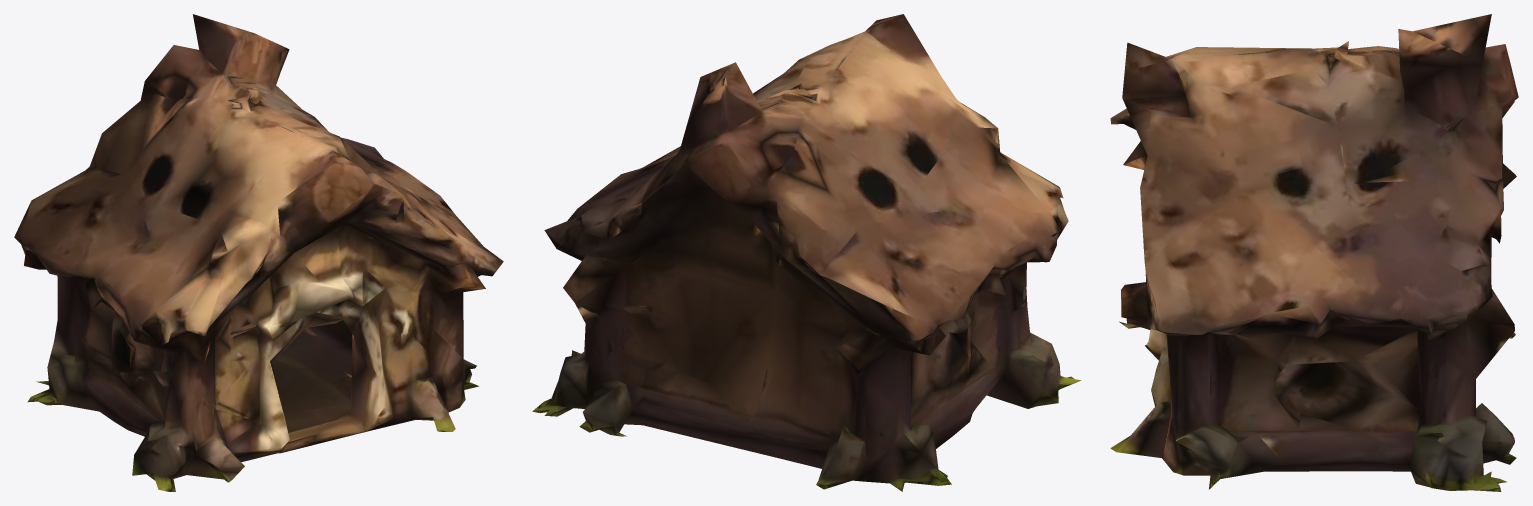
File: orchut.glb
3 renders of one model, left to right at view 1: azimuth 30°, elevation 25°; view 2: azimuth 150°, elevation 25°; view 3: azimuth 270°, elevation 25°, orthographic. The views are drawn at different scales.
Parts seen in each view (by area): view 1: tripo_node_2c0445e6-882c-45a1-9bf6-54e75808d092; view 2: tripo_node_2c0445e6-882c-45a1-9bf6-54e75808d092; view 3: tripo_node_2c0445e6-882c-45a1-9bf6-54e75808d092.
Part boxes in pixels (x1,y1,x2,y2): tripo_node_2c0445e6-882c-45a1-9bf6-54e75808d092: (14, 14, 503, 491); tripo_node_2c0445e6-882c-45a1-9bf6-54e75808d092: (532, 14, 1081, 491); tripo_node_2c0445e6-882c-45a1-9bf6-54e75808d092: (1110, 14, 1518, 491).
Bounding box in the file's own units: 0.9514 × 0.8221 × 0.7941.
Materials: 1 (1 with a texture image).
